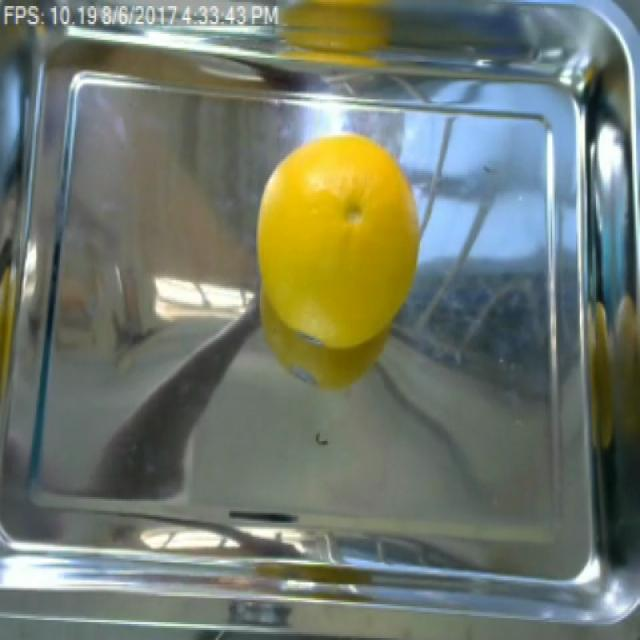Fruit: (252, 123, 428, 392), (255, 0, 409, 81)
